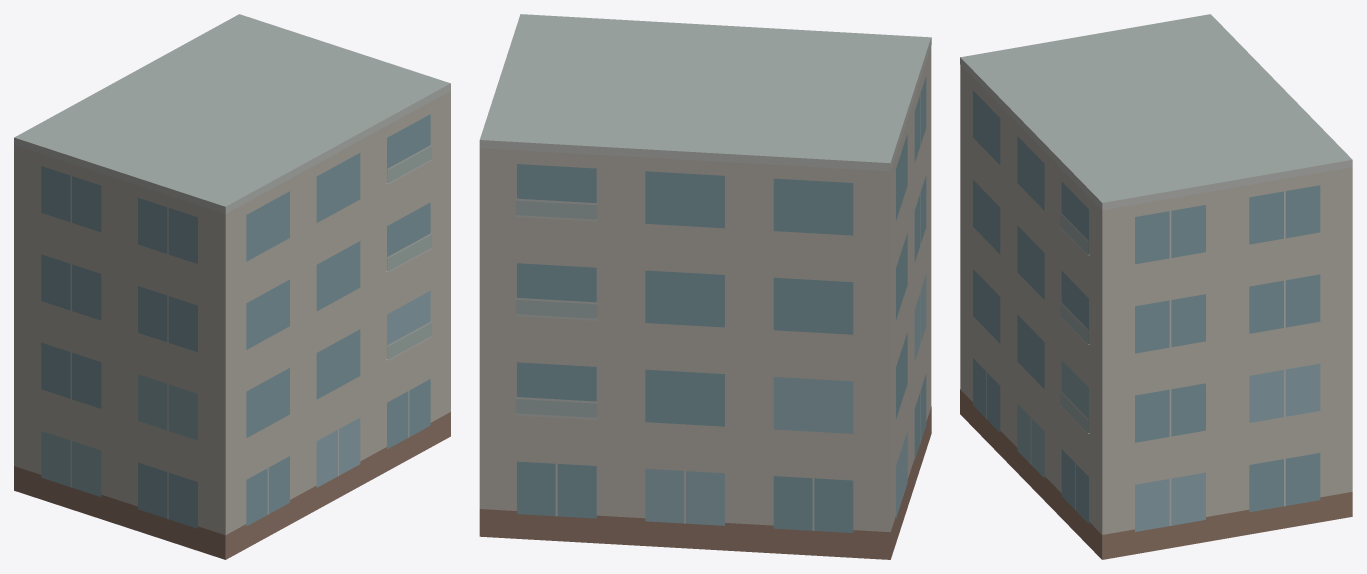
File: survey-upis-32684198.glb
The picture shows the model from 3 angles, left to right: view 1: azimuth 30°, elevation 25°; view 2: azimuth 150°, elevation 25°; view 3: azimuth 270°, elevation 25°; orthographic projection. The views are drawn at different scales.
Parts seen in each view (by area): view 1: survey-upis-32684198.tmp; view 2: survey-upis-32684198.tmp; view 3: survey-upis-32684198.tmp.
Part boxes in pixels (<box>): survey-upis-32684198.tmp: <box>14,14,450,559</box>; survey-upis-32684198.tmp: <box>479,14,931,559</box>; survey-upis-32684198.tmp: <box>960,14,1352,559</box>.
Bounding box in the file's own units: 13.41 × 11.8 × 11.77.
